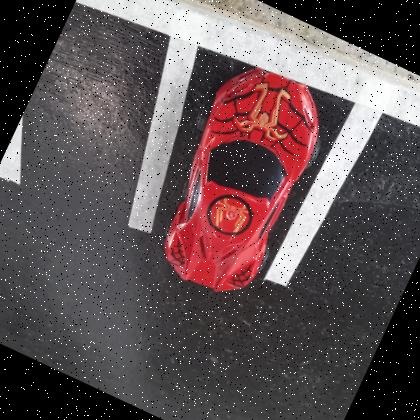Car: (164, 66, 320, 291)
